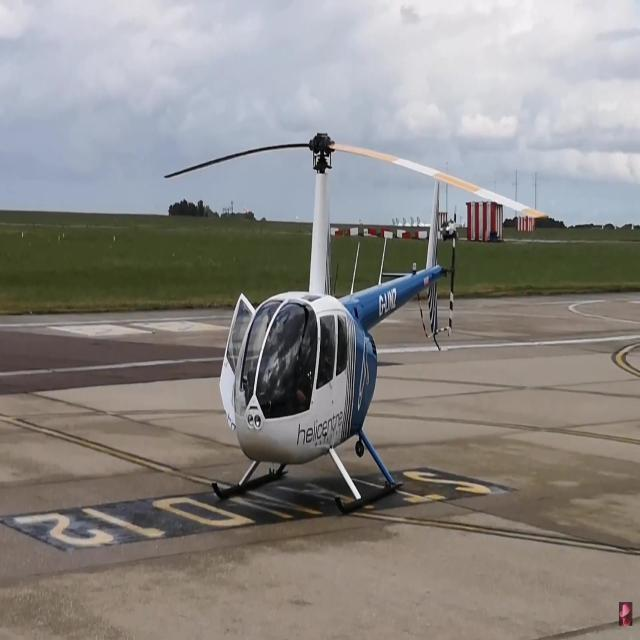CIV_HELO: (209, 130, 447, 521)
